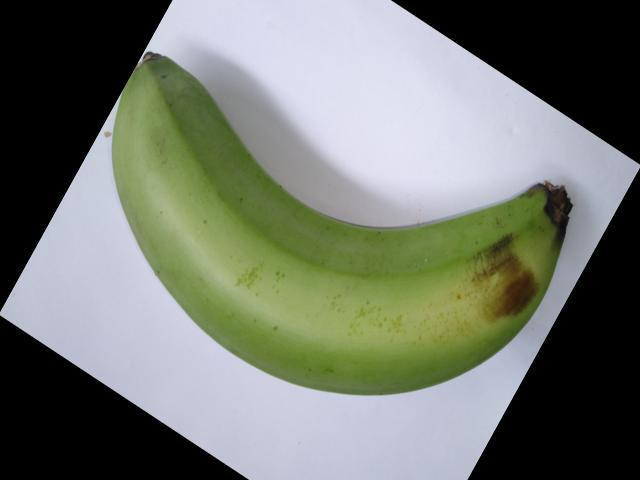freshunripe: (102, 37, 585, 412)
